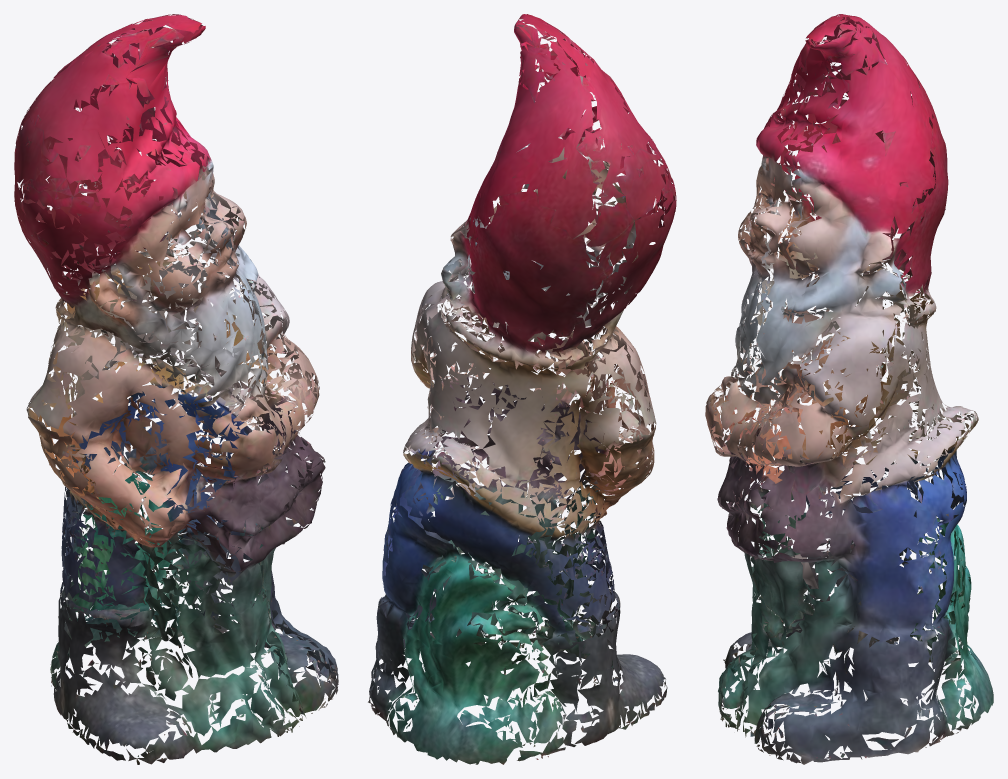
Rendered from gnomes78.glb.
The picture shows the model from 3 angles, left to right: view 1: azimuth 30°, elevation 25°; view 2: azimuth 150°, elevation 25°; view 3: azimuth 270°, elevation 25°; orthographic projection. The views are drawn at different scales.
Visible parts, largest first — view 1: Enano_jardin; view 2: Enano_jardin; view 3: Enano_jardin.
Boxes of the visible parts, left/top/right/bottom form: Enano_jardin: left=14, top=14, right=338, bottom=764; Enano_jardin: left=368, top=14, right=676, bottom=764; Enano_jardin: left=705, top=14, right=993, bottom=764.
Size of the model in its own units: 0.1942 by 0.4442 by 0.1733.
Materials: 1 (1 with a texture image).
